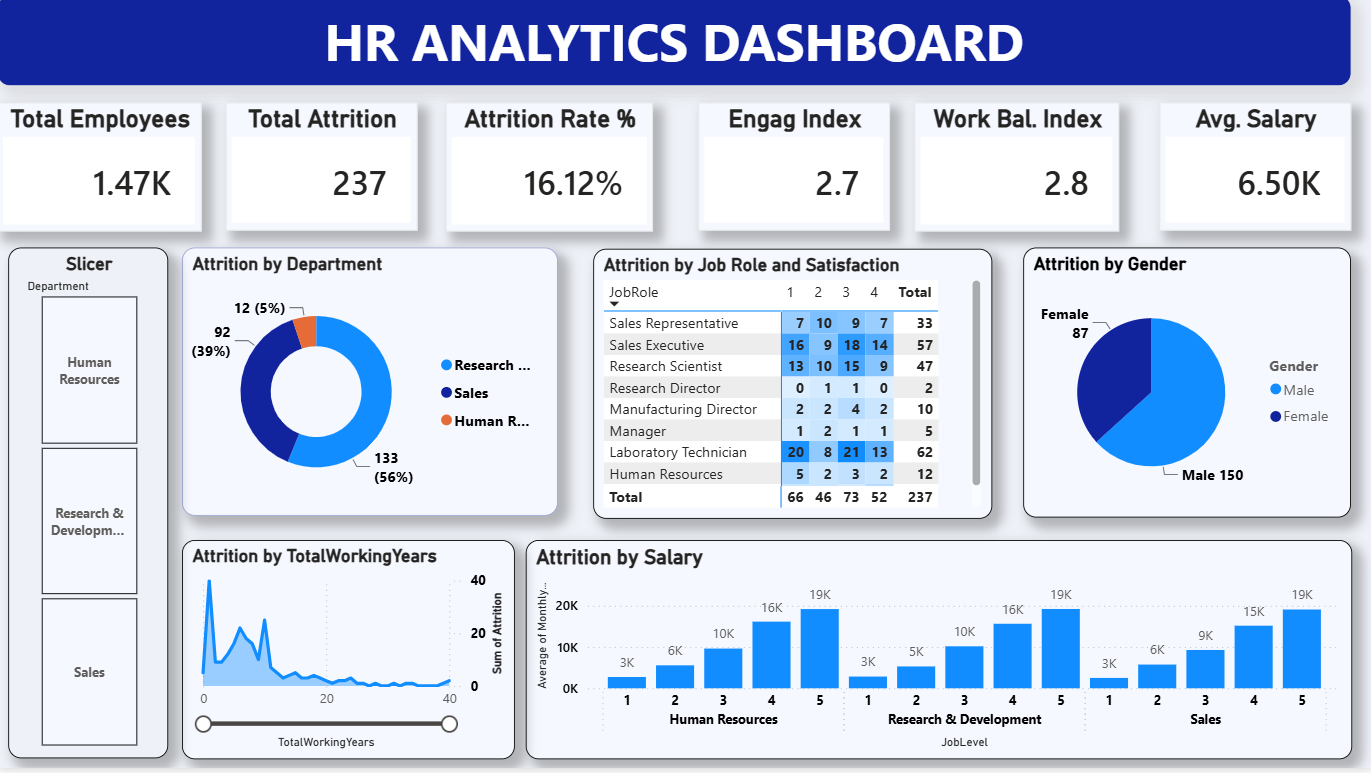

What the dashboard file says about the page in this screenshot:
{"tool":"powerbi","page":{"name":"Page 1","canvas":[1280,720],"ordinal":0},"visuals":[{"type":"textbox","box":[0,0,1260.5,84.9],"z":0},{"type":"cardVisual","title":"Total Employees","fields":{"Data":["CountNonNull(Palo Alto Networks.Age)"]},"box":[10.5,100,190.7,119.8],"z":1000},{"type":"cardVisual","title":"Total Attrition","fields":{"Data":["Sum(Palo Alto Networks.Attrition)"]},"box":[223.3,100,177.9,119.8],"z":2000},{"type":"cardVisual","title":"Attrition Rate %","fields":{"Data":["Palo Alto Networks.Attrition Rate"]},"box":[424.4,98.8,193,119.8],"z":3000},{"type":"cardVisual","title":"Work Bal. Index ","fields":{"Data":["Palo Alto Networks.WorkLifeBalIndex"]},"box":[853.5,100,190.7,119.8],"z":4000},{"type":"cardVisual","title":"Avg. Salary","fields":{"Data":["Avg(Palo Alto Networks.MonthlyIncome)"]},"box":[1081.3,100.2,178.4,119.4],"z":5000},{"type":"cardVisual","title":"Engag Index","fields":{"Data":["Palo Alto Networks.Engagement Index"]},"box":[651.8,100.2,178.4,119.4],"z":6000},{"type":"donutChart","title":"Attrition by Department","fields":{"Category":["Palo Alto Networks.Department"],"Y":["Sum(Palo Alto Networks.Attrition)"]},"box":[171.7,235.3,349.4,249.8],"z":7000},{"type":"clusteredColumnChart","title":"Attrition by Salary","fields":{"Category":["Palo Alto Networks.Department","Palo Alto Networks.JobLevel"],"Y":["Avg(Palo Alto Networks.MonthlyIncome)"]},"box":[492.3,506.7,768.5,204.1],"z":8000},{"type":"pivotTable","title":"Attrition by Job Role and Satisfaction","fields":{"Rows":["Palo Alto Networks.JobRole"],"Columns":["Palo Alto Networks.JobSatisfaction"],"Values":["Sum(Palo Alto Networks.Attrition)"]},"box":[554.7,236.5,371,251],"z":9000},{"type":"pieChart","title":"Attrition by Gender","fields":{"Category":["Palo Alto Networks.Gender"],"Y":["Sum(Palo Alto Networks.Attrition)"]},"box":[954.6,235.3,305,251],"z":10000},{"type":"areaChart","title":"Attrition by TotalWorkingYears","fields":{"Category":["Palo Alto Networks.TotalWorkingYears"],"Y2":["Sum(Palo Alto Networks.Attrition)"]},"box":[171.7,506.7,309.8,204.1],"z":11000},{"type":"slicer","title":"Slicer","fields":{"Values":["Palo Alto Networks.Department"]},"box":[10.8,235.3,148.9,475.5],"z":12000}]}

Visuals, with their boxes in screenshot pixels (x1, y1, x2, y2), scaled from the page's 1280x720 canvas onto the 1371x773 screenshot:
textbox: x1=0, y1=0, x2=1350, y2=91
"Total Employees" cardVisual: x1=11, y1=107, x2=216, y2=236
"Total Attrition" cardVisual: x1=239, y1=107, x2=430, y2=236
"Attrition Rate %" cardVisual: x1=455, y1=106, x2=661, y2=235
"Work Bal. Index " cardVisual: x1=914, y1=107, x2=1118, y2=236
"Avg. Salary" cardVisual: x1=1158, y1=108, x2=1349, y2=236
"Engag Index" cardVisual: x1=698, y1=108, x2=889, y2=236
"Attrition by Department" donutChart: x1=184, y1=253, x2=558, y2=521
"Attrition by Salary" clusteredColumnChart: x1=527, y1=544, x2=1350, y2=763
"Attrition by Job Role and Satisfaction" pivotTable: x1=594, y1=254, x2=992, y2=523
"Attrition by Gender" pieChart: x1=1022, y1=253, x2=1349, y2=522
"Attrition by TotalWorkingYears" areaChart: x1=184, y1=544, x2=516, y2=763
"Slicer" slicer: x1=12, y1=253, x2=171, y2=763
